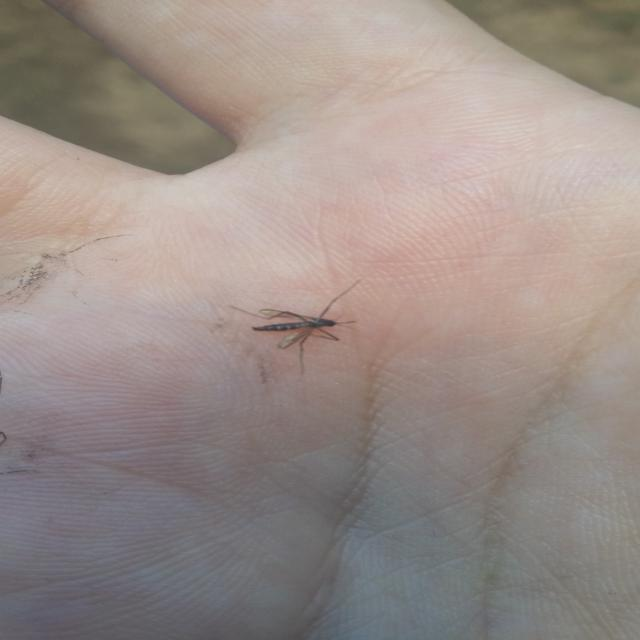albopictus: (223, 276, 367, 372)
